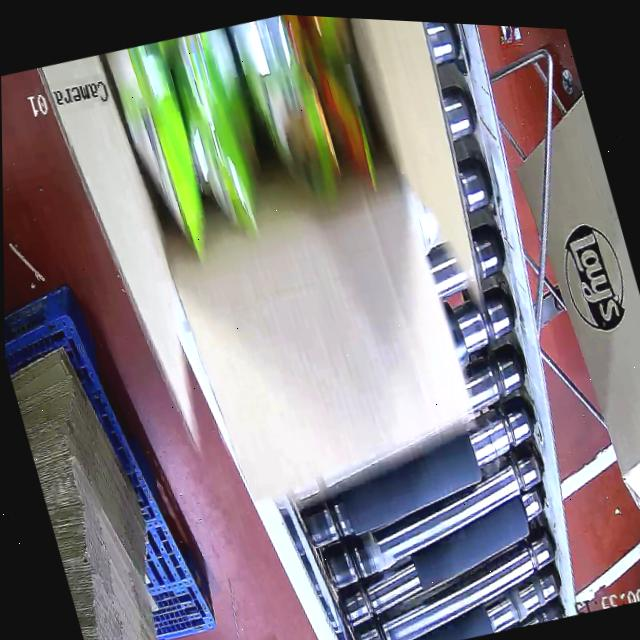YOGURT_HERB: (101, 5, 396, 236)
